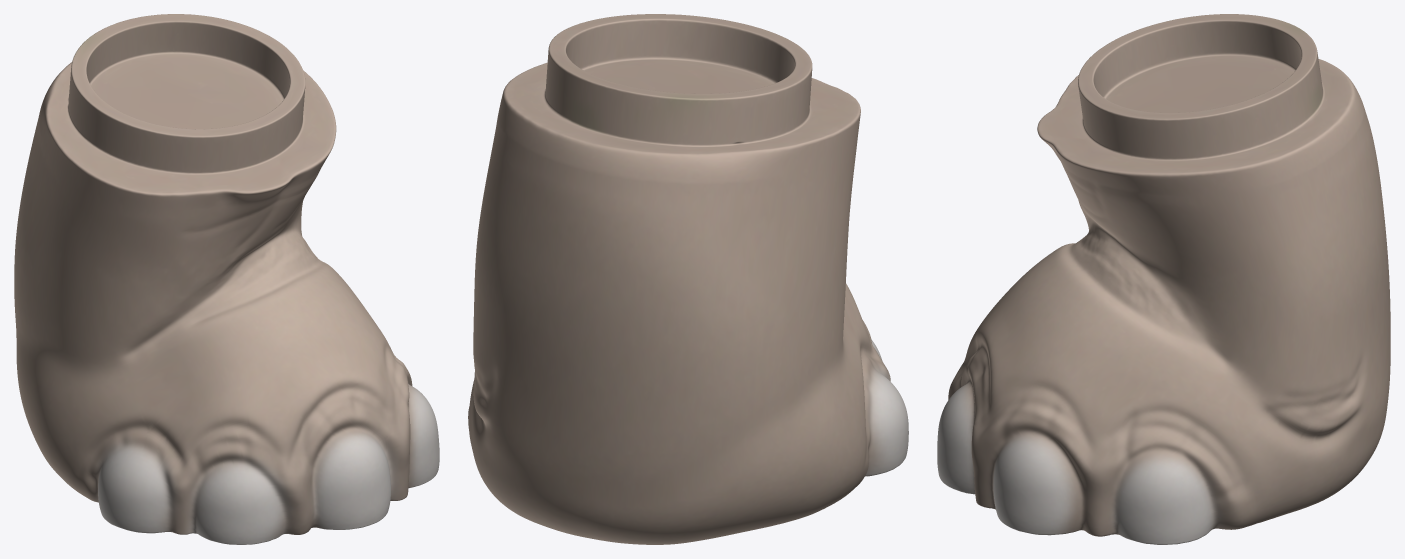
The model's file is Patte_Elephant_lft.glb.
3 renders of one model, left to right at view 1: azimuth 30°, elevation 25°; view 2: azimuth 150°, elevation 25°; view 3: azimuth 270°, elevation 25°, orthographic. The views are drawn at different scales.
Visible parts, largest first — view 1: Patte_Elephant_lft; view 2: Patte_Elephant_lft; view 3: Patte_Elephant_lft.
Part boxes in pixels (x1=…): Patte_Elephant_lft: x1=14, y1=14, x2=439, y2=544; Patte_Elephant_lft: x1=468, y1=14, x2=908, y2=544; Patte_Elephant_lft: x1=937, y1=14, x2=1390, y2=544.
Bounding box in the file's own units: 2.04 × 2.25 × 2.33.
